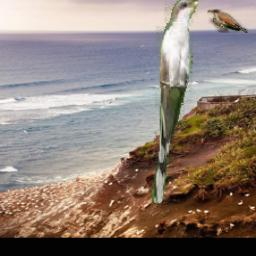Cuckoo: (153, 0, 199, 204), (207, 10, 248, 34)
